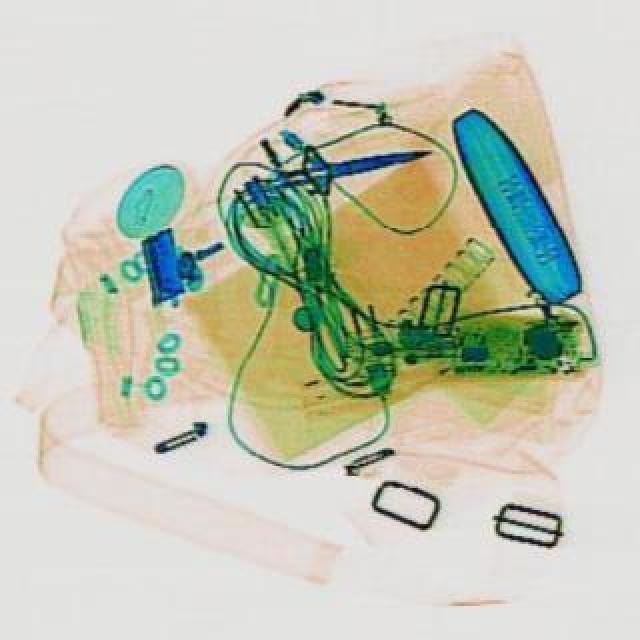knife: (266, 116, 436, 202)
